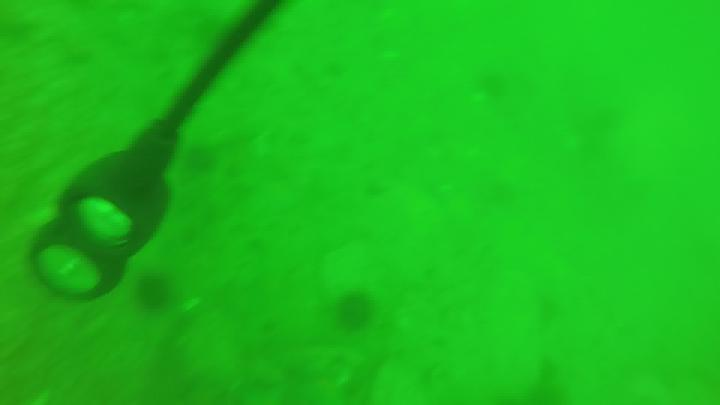echinus: (341, 296, 378, 334), (136, 276, 170, 312)
